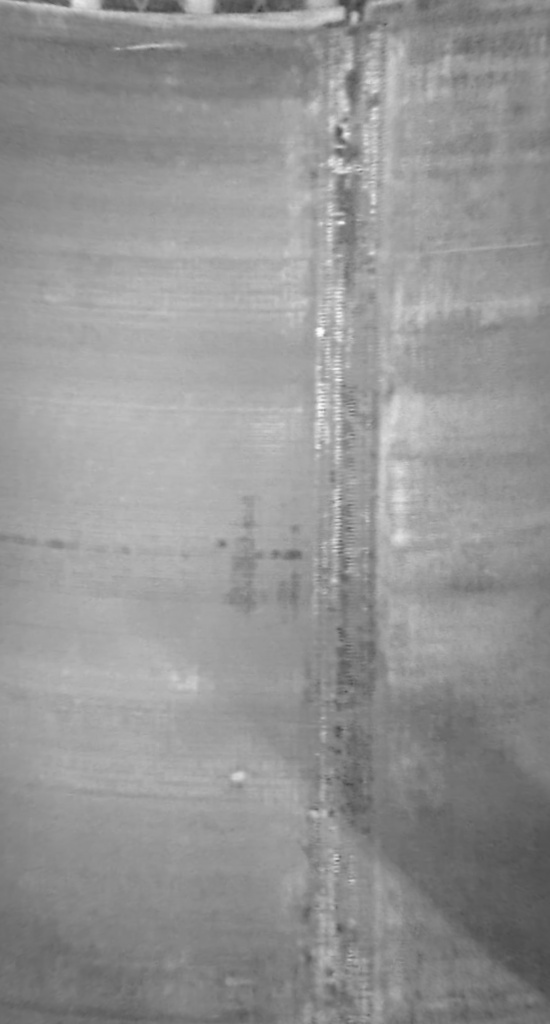splice: (300, 1, 397, 1022)
